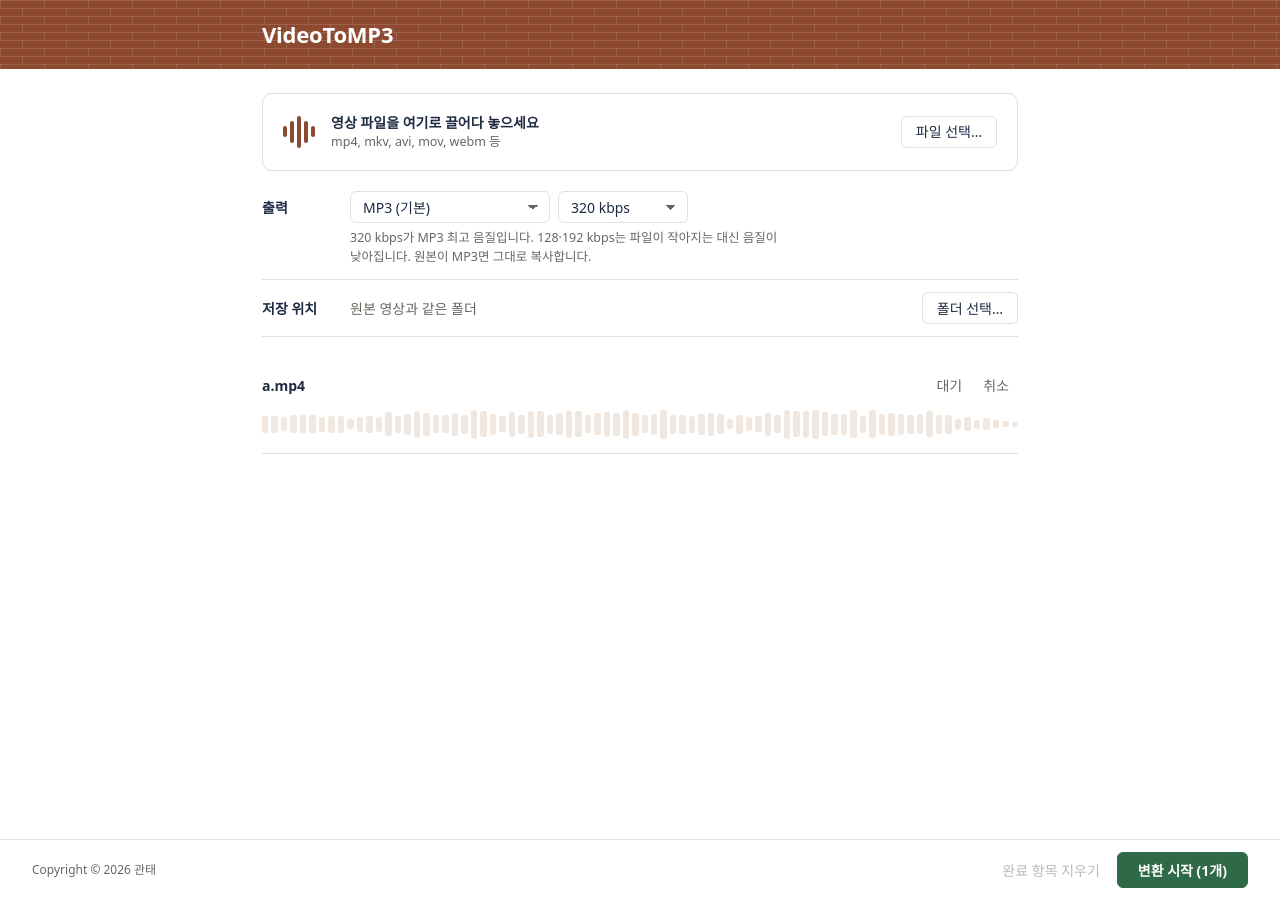
Test: 변환 › 진행 보고 {"percent":50,"speed":null}
The image size is (1280, 900).
Click the button "변환 시작 (1개)" at [1182, 870], box [1117,852,1248,888]
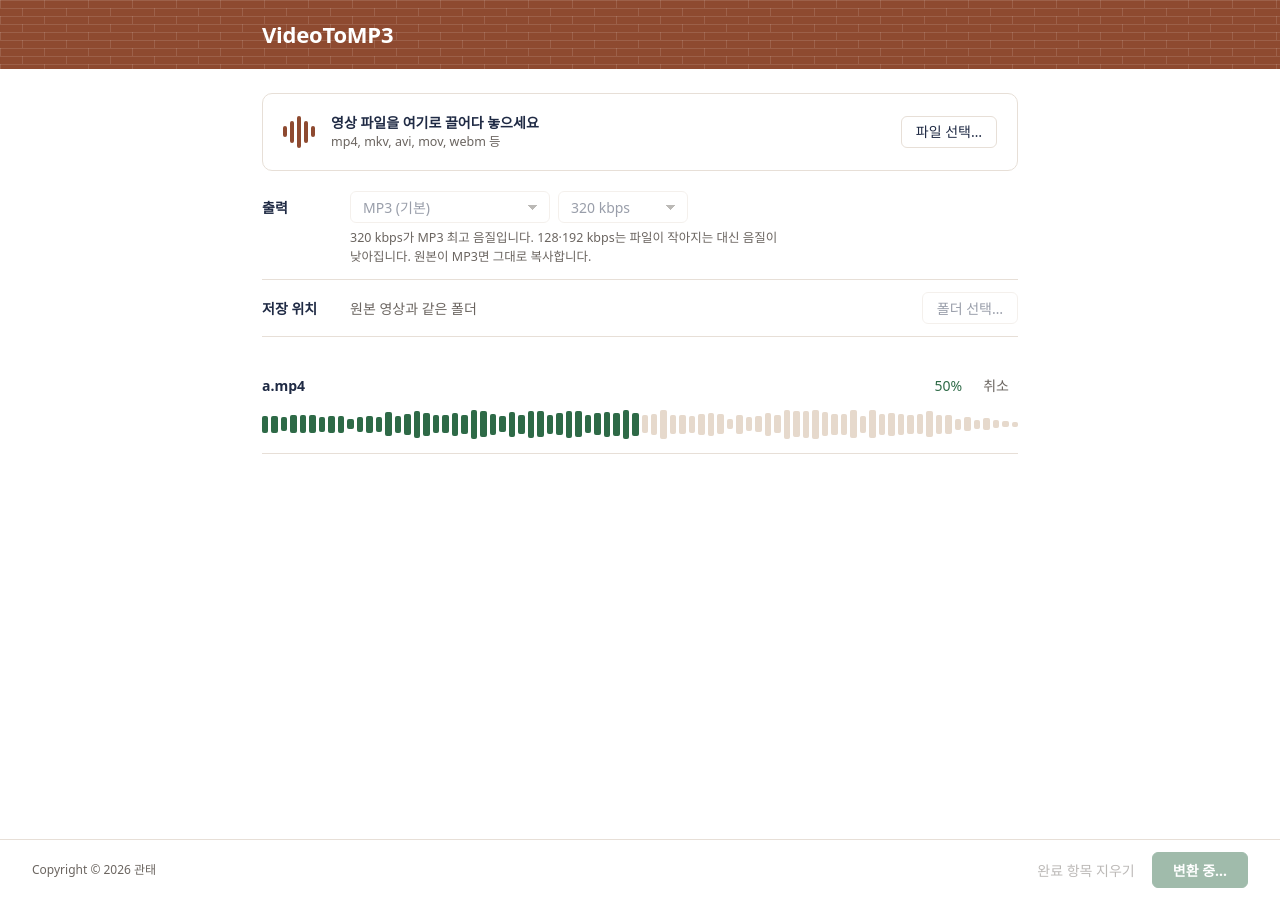
Check: the progress indicator named "a.mp4 변환 진행률" has attribute aria-valuemin="0", box [262,409,1018,439]
Check: the progress indicator named "a.mp4 변환 진행률" has attribute aria-valuemax="100", box [262,409,1018,439]
Check: the progress indicator named "a.mp4 변환 진행률" has attribute aria-valuenow="50", box [262,409,1018,439]
